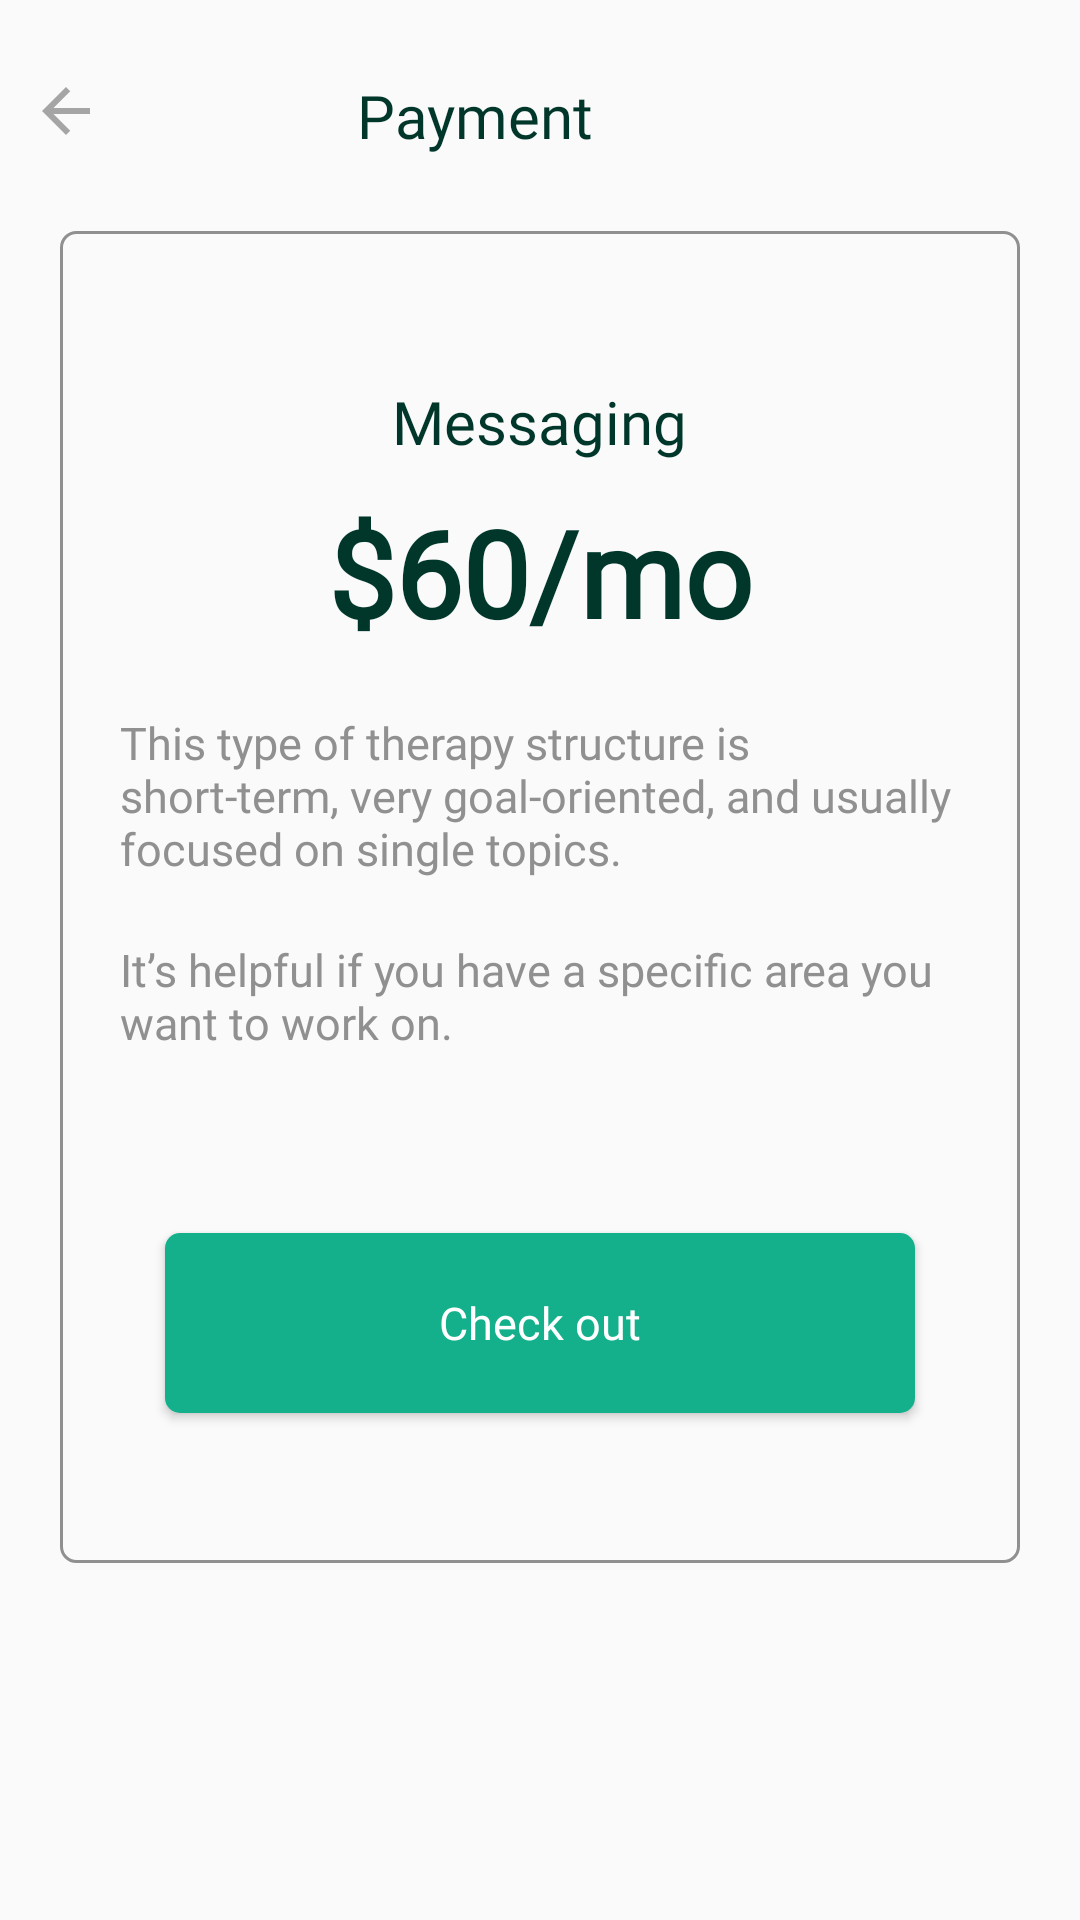

Locate icon controls on the screen. Image size 1080px×1920px, boxes as bbox(x1, y1, x2, y2).
back: bbox(42, 87, 90, 135)
